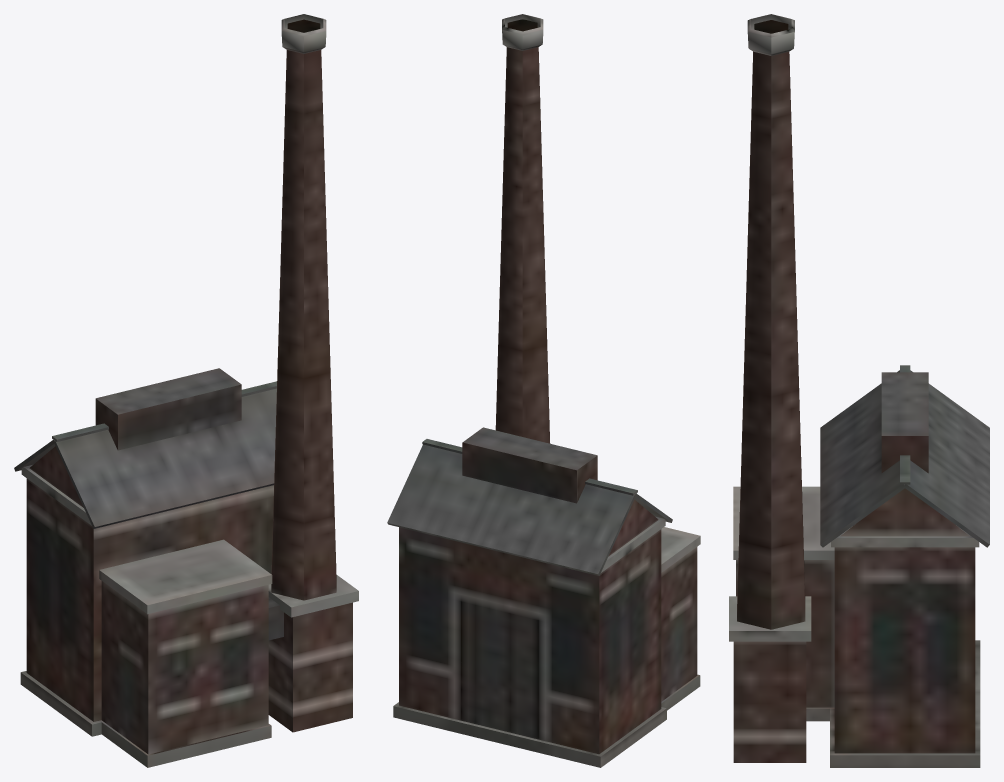
Rendered from b_powerplant_xfar.glb.
3 views of the same model, side by side, from view 1: azimuth 30°, elevation 25°; view 2: azimuth 150°, elevation 25°; view 3: azimuth 270°, elevation 25° (orthographic). The views are drawn at different scales.
Parts seen in each view (by area): view 1: b_powerplant_xfar; view 2: b_powerplant_xfar; view 3: b_powerplant_xfar.
Part boxes in pixels (x1=…): b_powerplant_xfar: x1=14, y1=14, x2=358, y2=767; b_powerplant_xfar: x1=387, y1=14, x2=700, y2=767; b_powerplant_xfar: x1=729, y1=14, x2=989, y2=767.
Size of the model in its own units: 5.9 by 17 by 5.56.
Materials: 1 (1 with a texture image).
